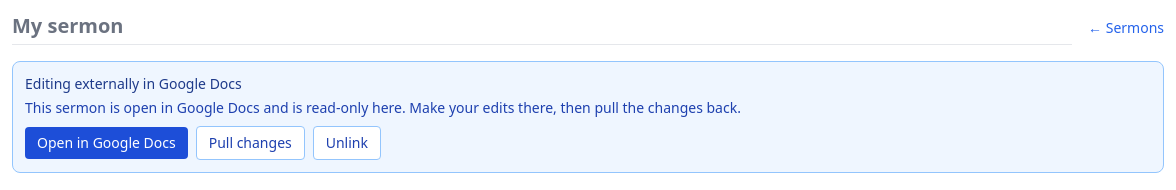
Test: SermonEditor — external-editor link (Phase 45) › Pull adopts the returned document into the read-only buffer
The image size is (1176, 190).
Click the button "Pull changes".
click(250, 143)  # box [196, 126, 305, 160]
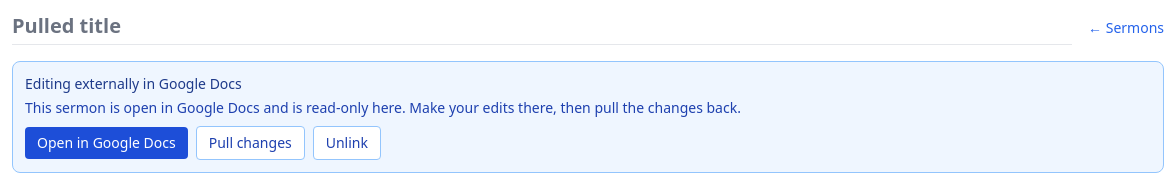
Expected: the field named "Sermon title" holds "Pulled title", [12, 12, 1072, 45]
